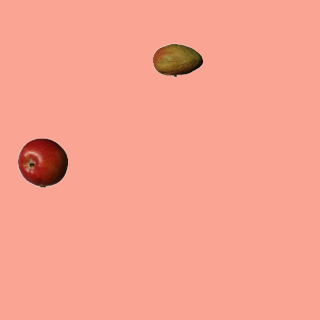Apple Braeburn: (17, 137, 67, 187)
Papaya: (152, 35, 202, 85)
